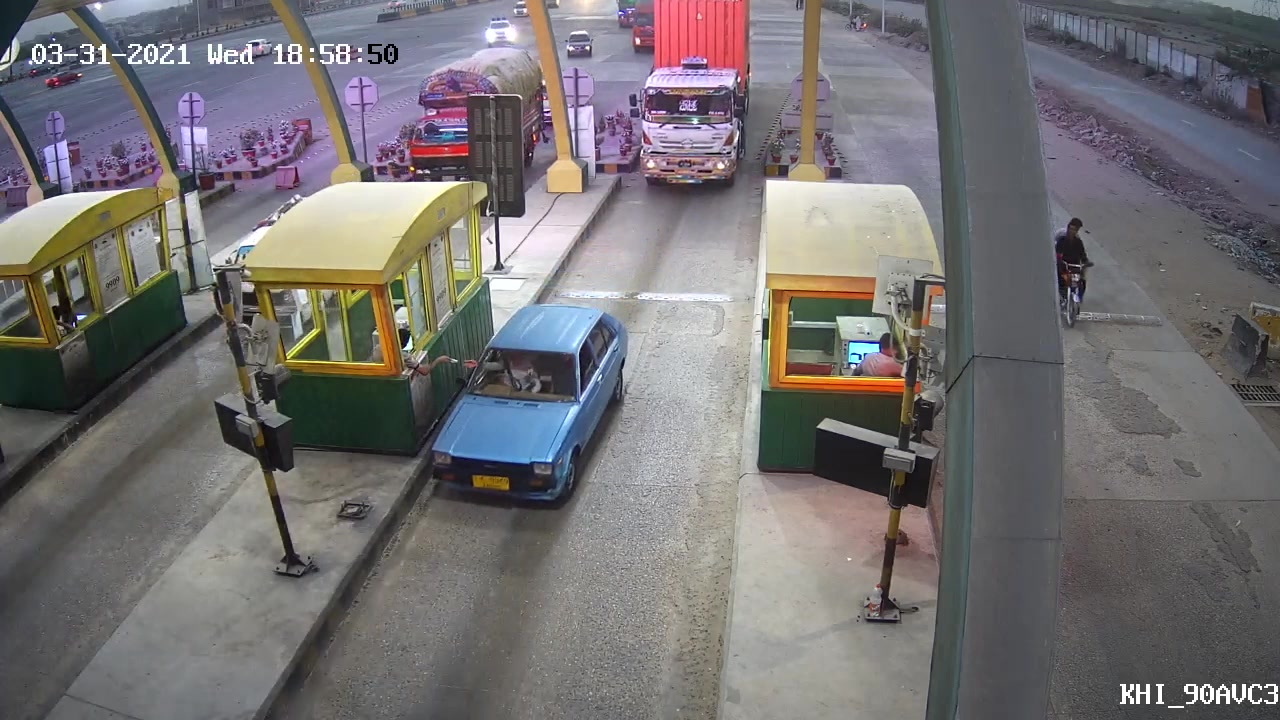F1: (422, 307, 629, 507)
F6: (633, 1, 759, 193)
